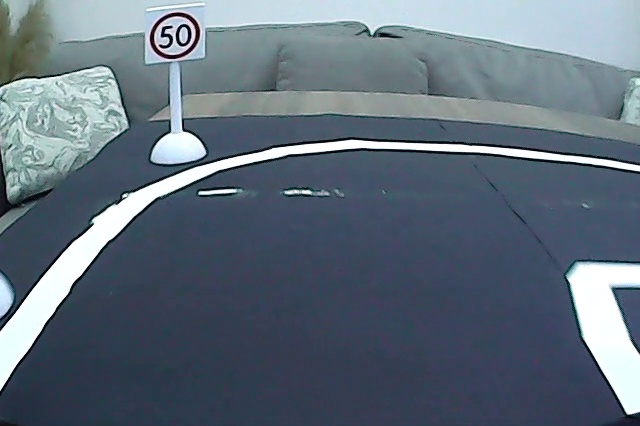speed limit 50: (148, 11, 203, 61)
